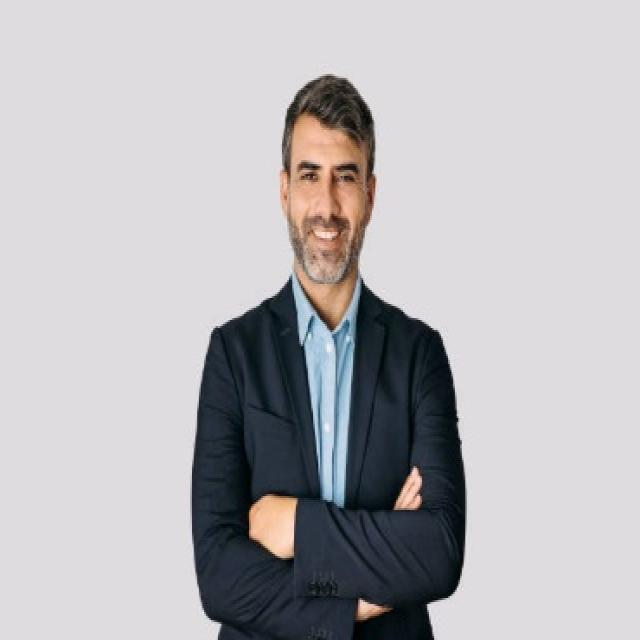adult: (186, 75, 452, 640)
